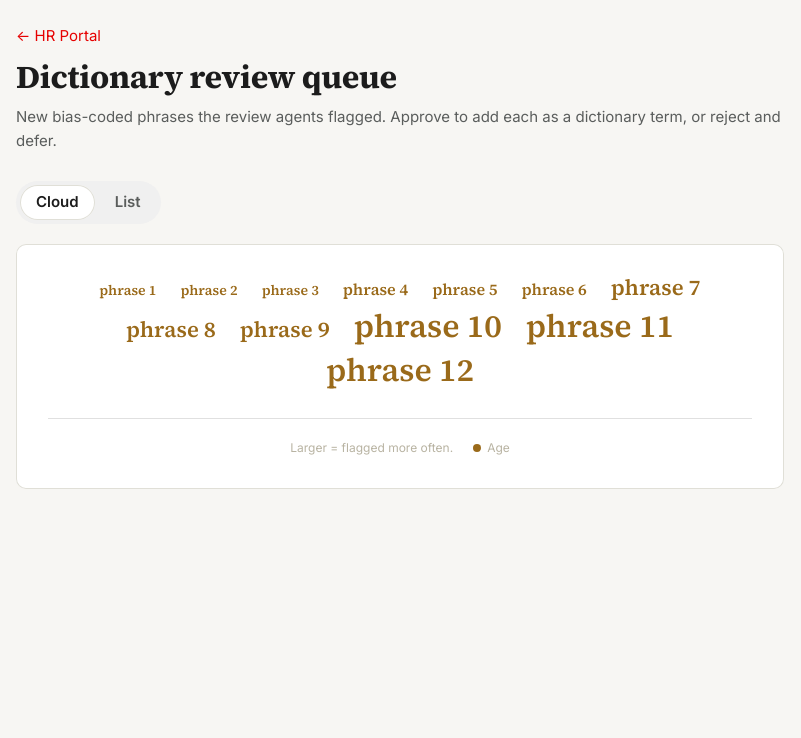
Test: HrDictionaryReview › paginates a queue larger than one page in the list view
This screenshot has width=801, height=738.
Click the button "List" at (128, 203), box top-left (99, 185), bottom-right (157, 220)
(page scrolled)
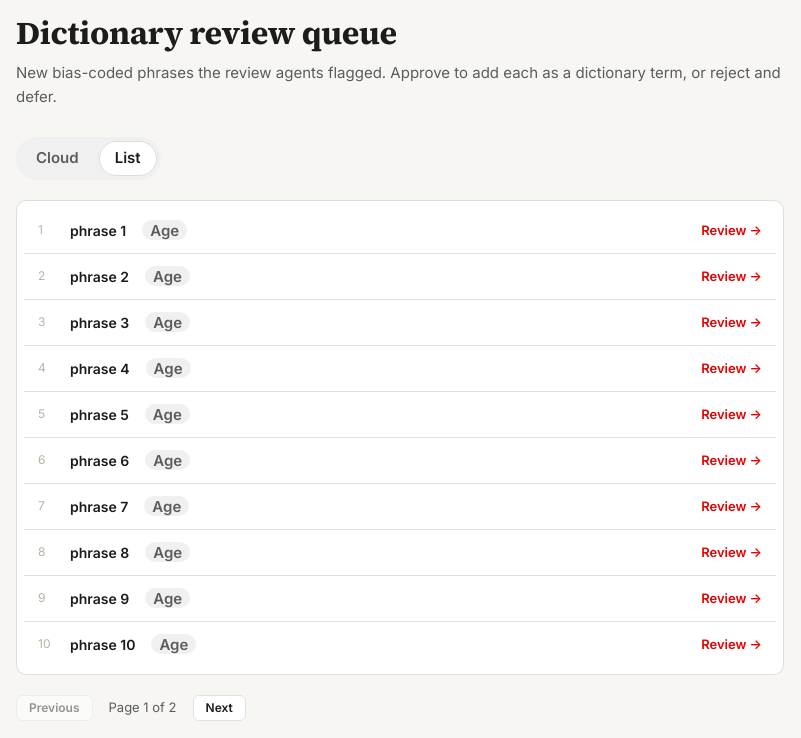
expect the text "phrase 10" is shown: met, box top-left (70, 634), bottom-right (135, 655)
expect the text "Page 1 of 2" is shown: met, box top-left (108, 698), bottom-right (176, 718)
expect the button "phrase 11" is gone: met
Click the button "Next" at (219, 708), box top-left (192, 695), bottom-right (246, 721)
(page scrolled)
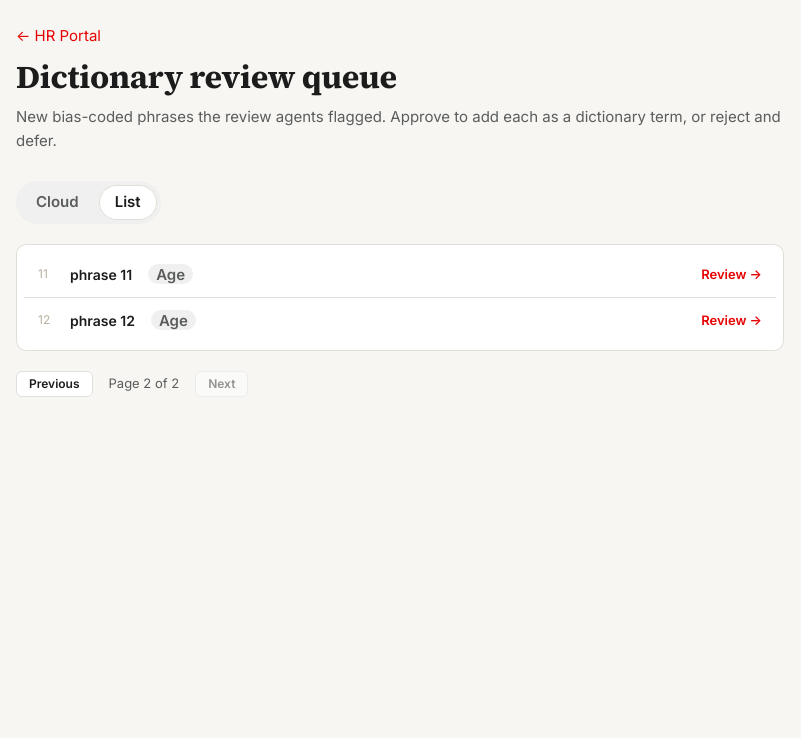
expect the text "Page 2 of 2" is shown: met, box top-left (108, 374), bottom-right (179, 394)
expect the text "phrase 11" is shown: met, box top-left (70, 264), bottom-right (132, 285)
